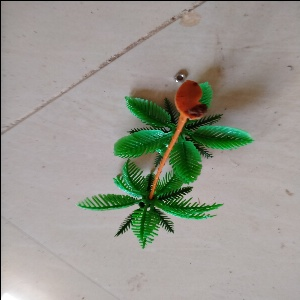plant: (103, 78, 236, 242)
